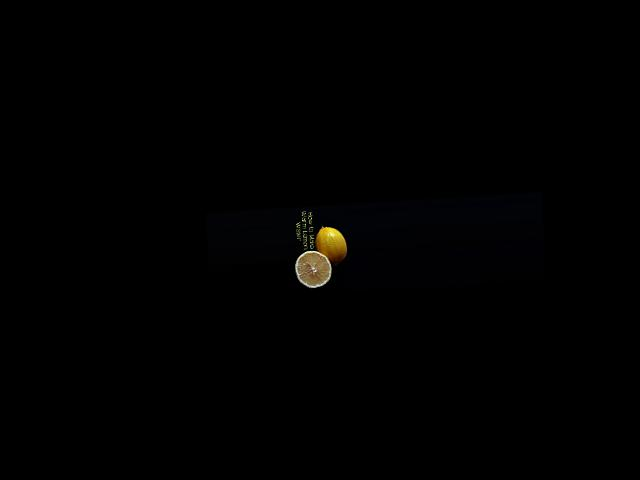lemon: (316, 222, 348, 266)
